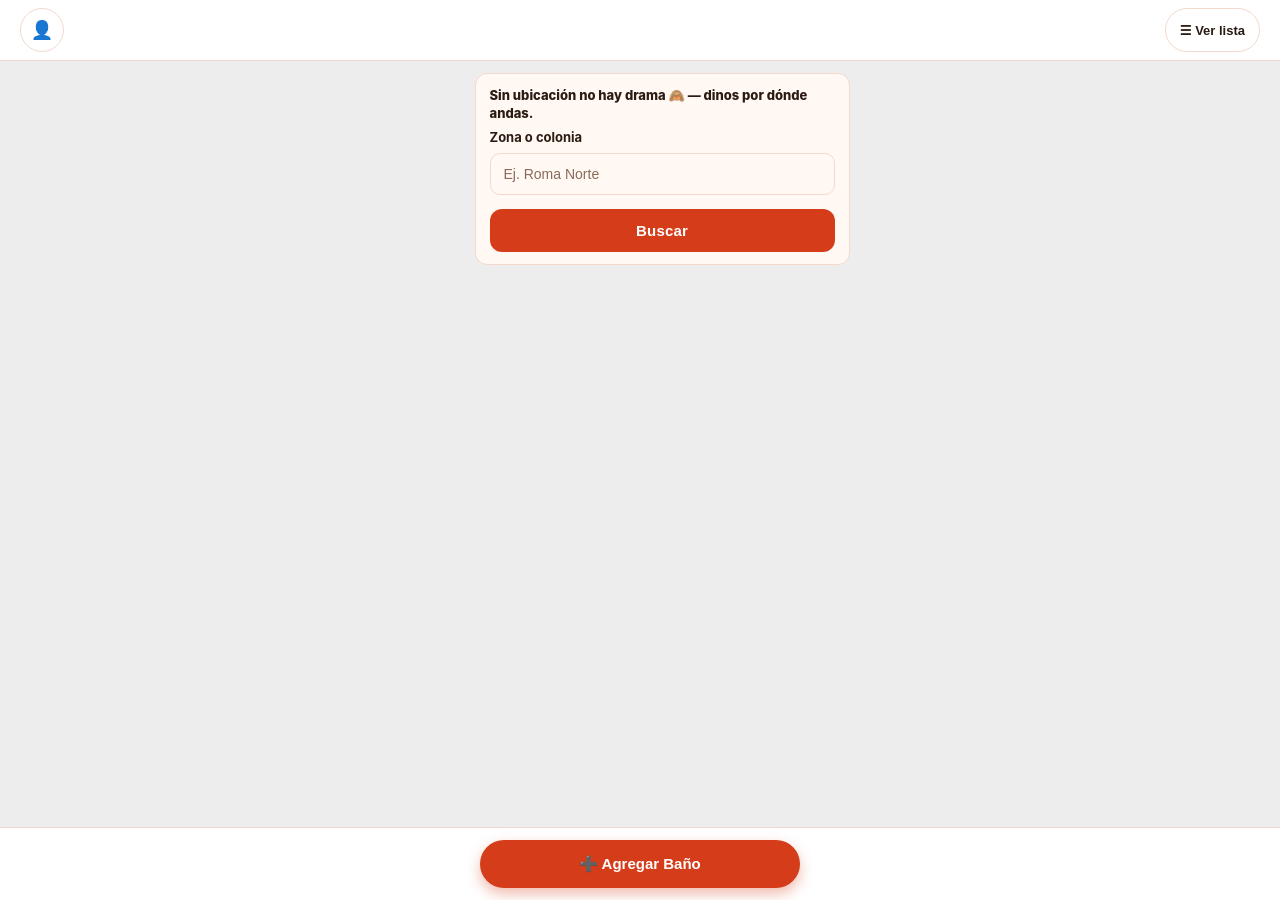
Mapa › búsqueda por zona sin resultados muestra el mismo mensaje de sin baños
Type "Narnia" into the field labelled "Zona o colonia" at (662, 174), box [490,153,834,195]
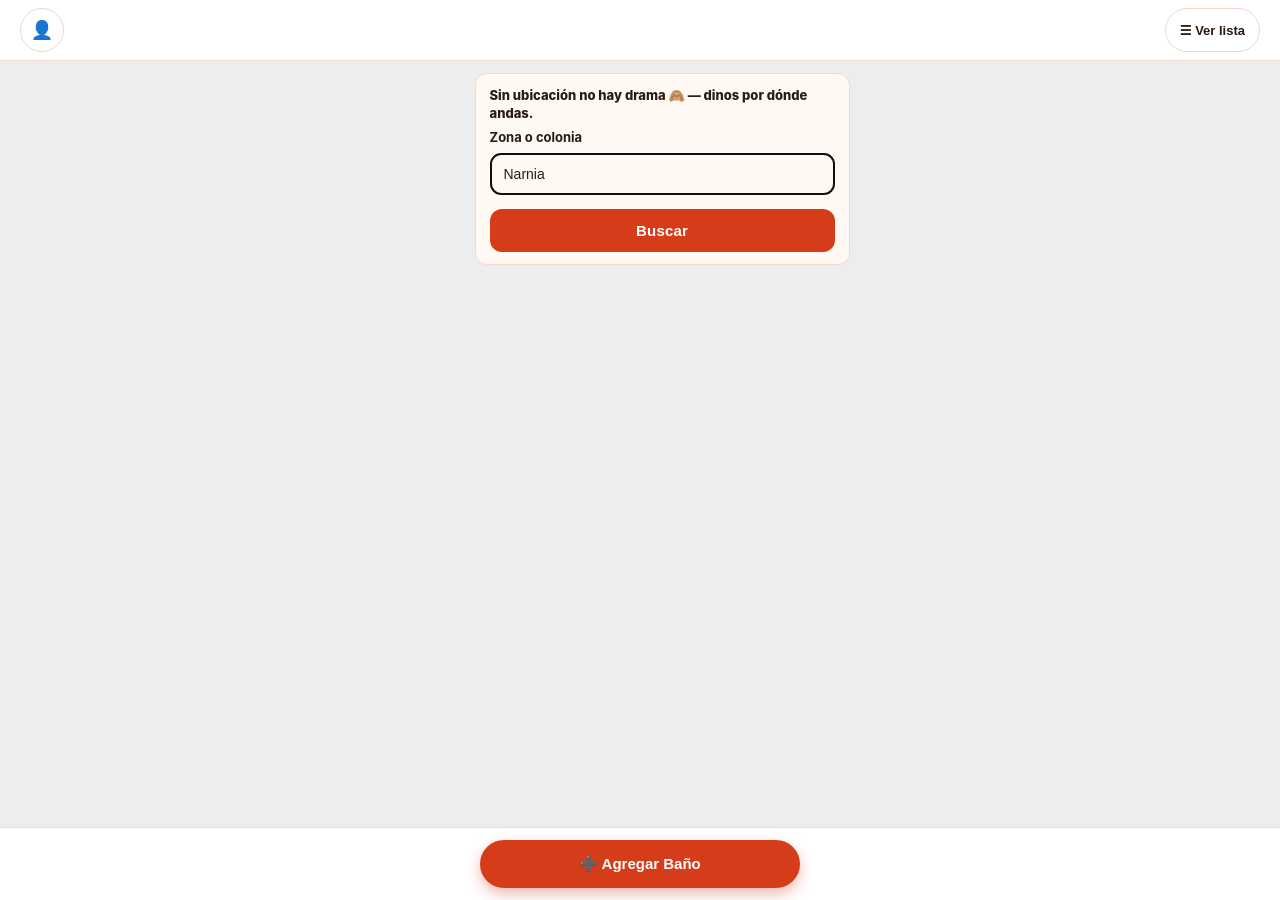
Click the button "Buscar" at (662, 230), box [490,209,834,252]
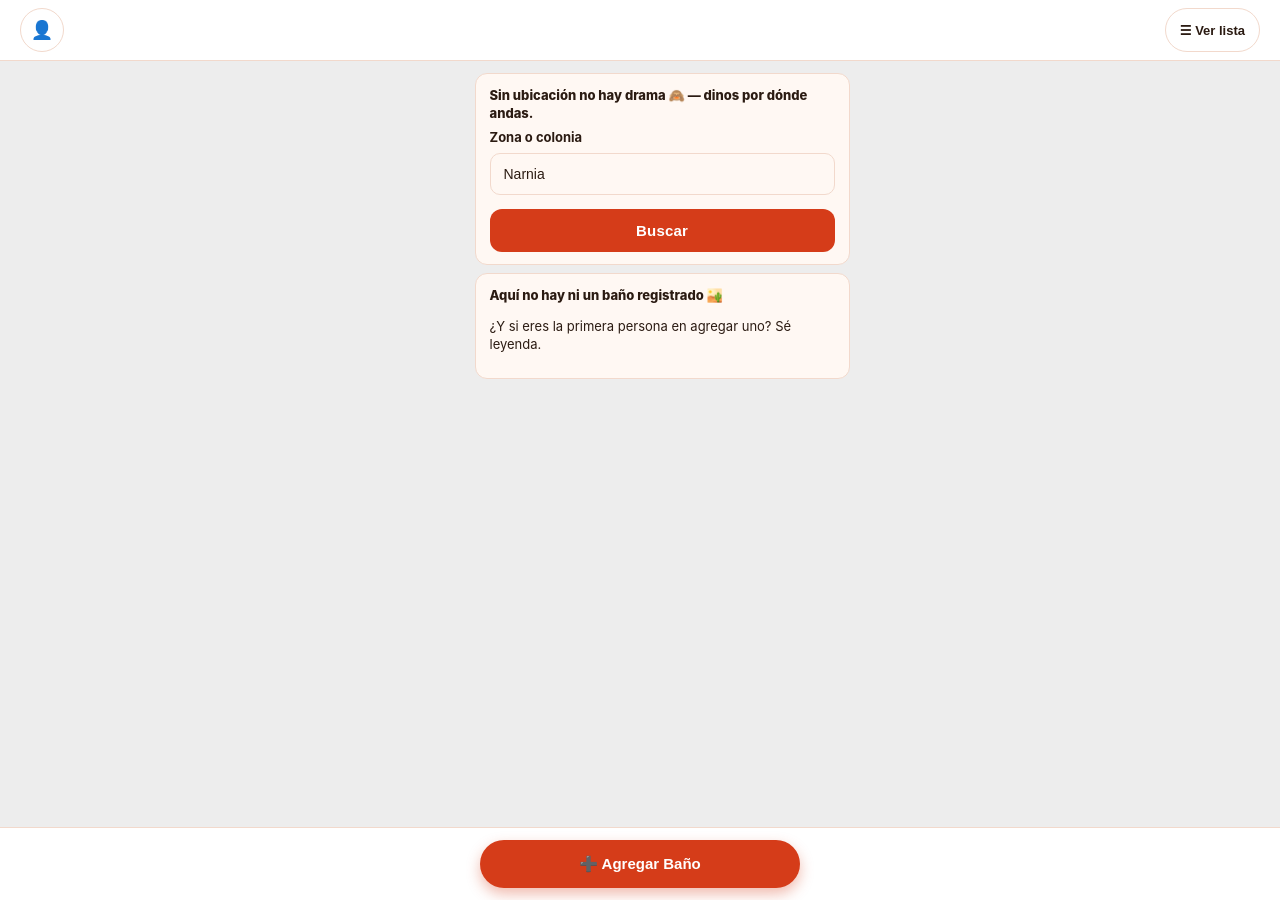
Expected: the text "Aquí no hay ni un baño registrado 🏜️" is shown, [490,287,723,303]
